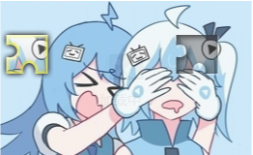gap: (176, 35, 217, 74)
